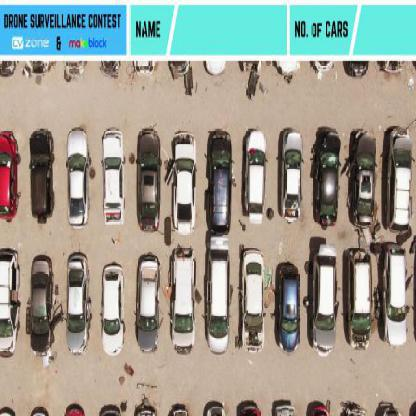car: (135, 133, 161, 237), (381, 243, 407, 347), (350, 132, 374, 239), (386, 134, 410, 240), (29, 130, 56, 224), (67, 130, 93, 226), (30, 258, 56, 351), (314, 139, 340, 231), (66, 256, 92, 348), (173, 143, 198, 235), (276, 265, 301, 357), (210, 135, 233, 233), (345, 260, 369, 353), (206, 261, 230, 353), (313, 263, 337, 355), (279, 135, 305, 219), (102, 134, 126, 225), (172, 259, 196, 348), (242, 266, 266, 354), (137, 260, 161, 346), (101, 265, 125, 349), (245, 138, 268, 222), (2, 137, 23, 221), (2, 252, 19, 345), (70, 252, 87, 288), (371, 402, 403, 416), (234, 401, 265, 415), (343, 62, 367, 80), (269, 401, 299, 415), (303, 401, 333, 415), (338, 403, 368, 415), (202, 403, 230, 415)
